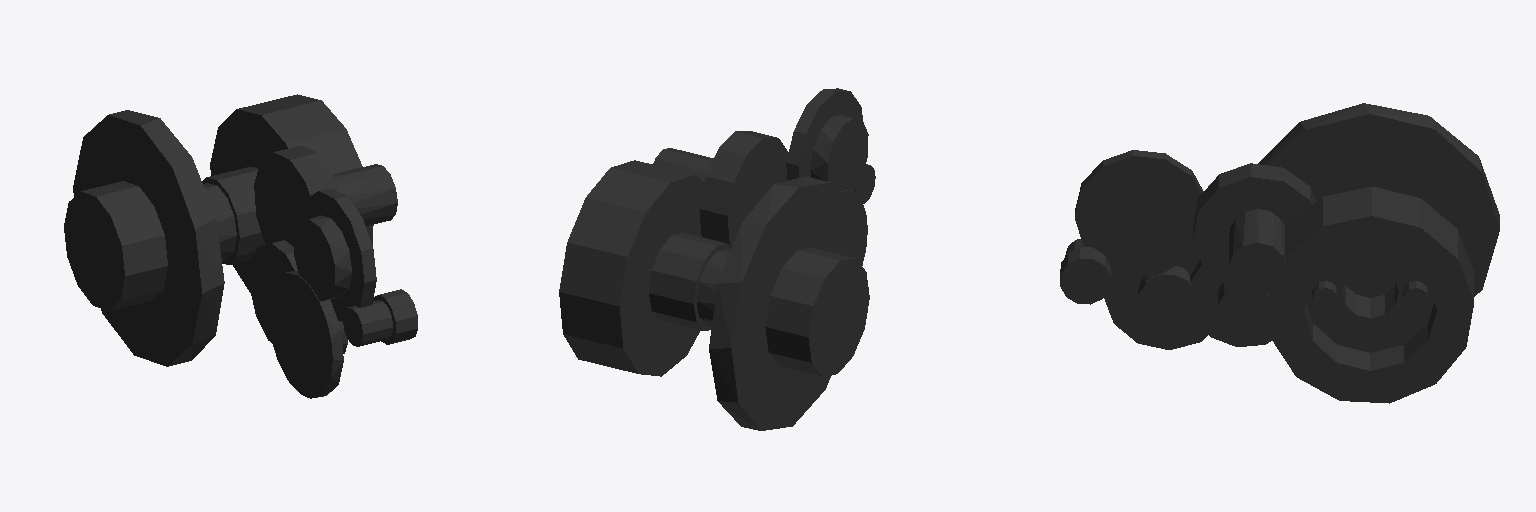
Rendered from Elbow_Bracket_01_1_mesh_4.obj.
3 renders of one model, left to right at view 1: azimuth 30°, elevation 25°; view 2: azimuth 150°, elevation 25°; view 3: azimuth 270°, elevation 25°, orthographic.
Bounding box in the file's own units: 0.0207 × 0.02 × 0.034.